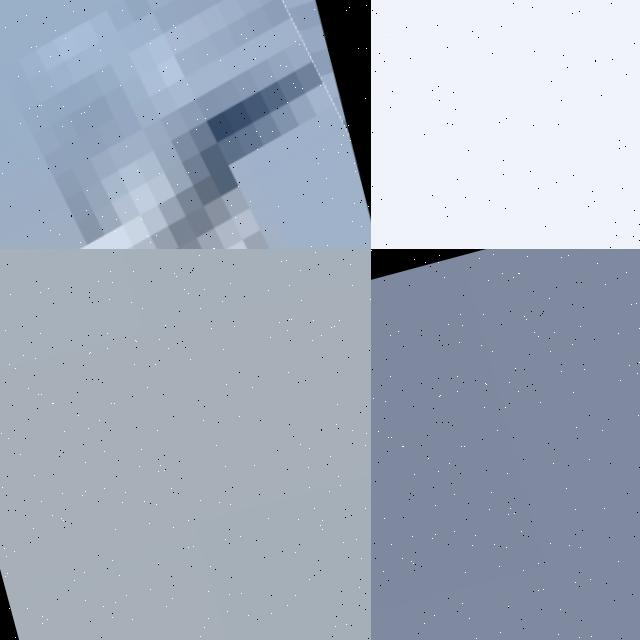drone: (0, 0, 371, 249), (371, 0, 640, 249)
